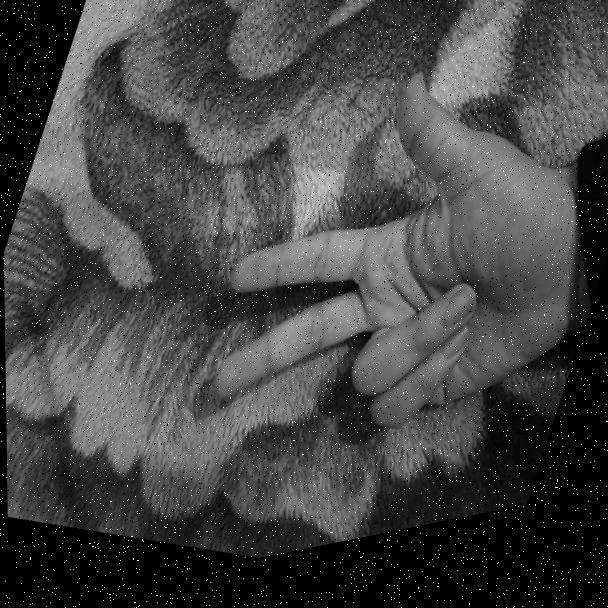three: (178, 21, 608, 542)
